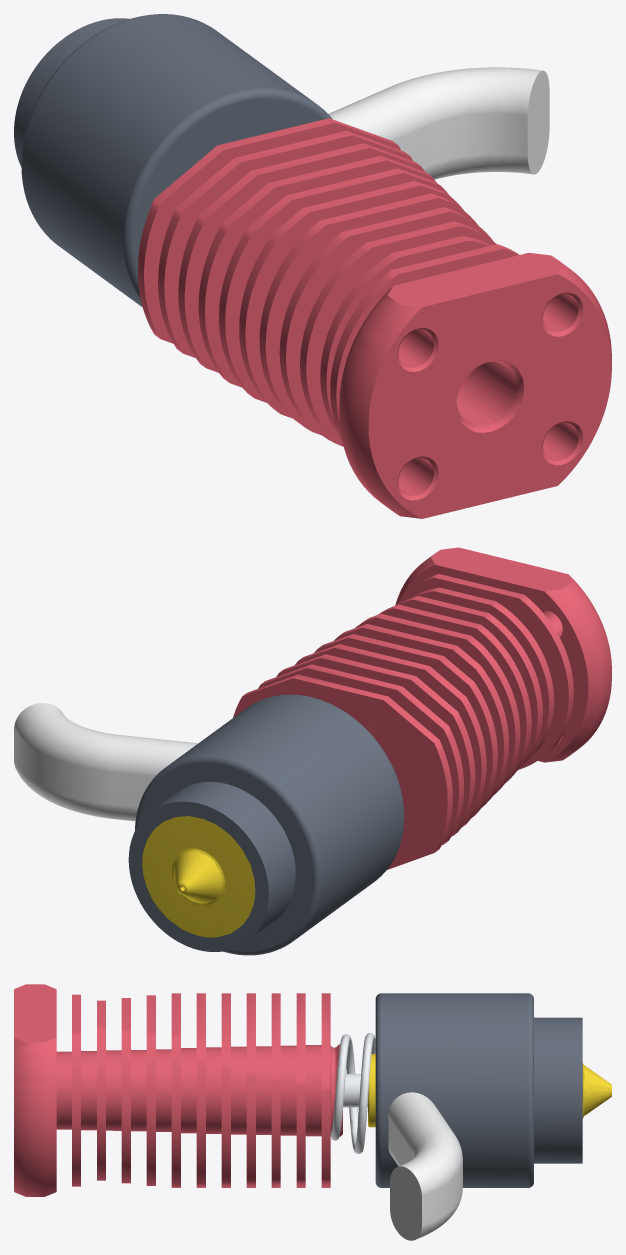
3 views of the same model, one above another, from view 1: azimuth 30°, elevation 25°; view 2: azimuth 150°, elevation 25°; view 3: azimuth 270°, elevation 25° (orthographic). The views are drawn at different scales.
Parts seen in each view (by area): view 1: revo_heatsink_67, revo_heatercore_sock_72, revo_heater_tab_73, revo_sock_collar_71; view 2: revo_heatsink_67, revo_heatercore_sock_72, revo_heater_tab_73, revo_sock_collar_71, revo_brass_nozzle_68; view 3: revo_heatsink_67, revo_heatercore_sock_72, revo_heater_tab_73, revo_sock_collar_71, revo_spring_78, revo_brass_nozzle_68, revo_ss304_throat_70.
Part boxes in pixels (bbox=[...]): revo_heatsink_67: bbox=[138, 118, 611, 518]; revo_heatercore_sock_72: bbox=[21, 14, 332, 307]; revo_heater_tab_73: bbox=[328, 67, 549, 179]; revo_sock_collar_71: bbox=[14, 18, 129, 166]; revo_heatsink_67: bbox=[233, 547, 611, 869]; revo_heatercore_sock_72: bbox=[135, 694, 404, 955]; revo_heater_tab_73: bbox=[14, 703, 197, 821]; revo_sock_collar_71: bbox=[128, 781, 295, 951]; revo_brass_nozzle_68: bbox=[142, 816, 255, 937]; revo_heatsink_67: bbox=[14, 984, 342, 1196]; revo_heatercore_sock_72: bbox=[375, 993, 533, 1187]; revo_heater_tab_73: bbox=[388, 1092, 462, 1240]; revo_sock_collar_71: bbox=[534, 1017, 582, 1163]; revo_spring_78: bbox=[330, 1033, 375, 1153]; revo_brass_nozzle_68: bbox=[368, 1054, 611, 1127]; revo_ss304_throat_70: bbox=[343, 1074, 367, 1107].
Size of the model in its own units: 0.0328 by 0.016 by 0.0491.
